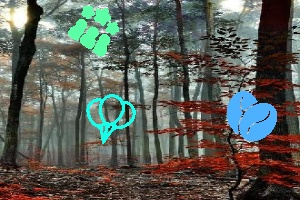三朵花: (69, 4, 118, 56)
两网球: (226, 90, 280, 142)
球拍: (85, 95, 135, 143)
